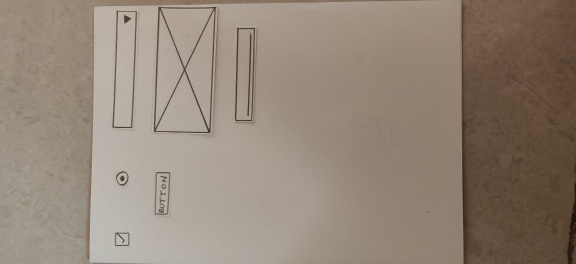button: (157, 164, 171, 222)
checkbox: (109, 229, 134, 251)
dropdown: (113, 9, 134, 129)
img: (155, 1, 212, 136)
radio: (108, 165, 132, 190)
text: (235, 30, 253, 119)
